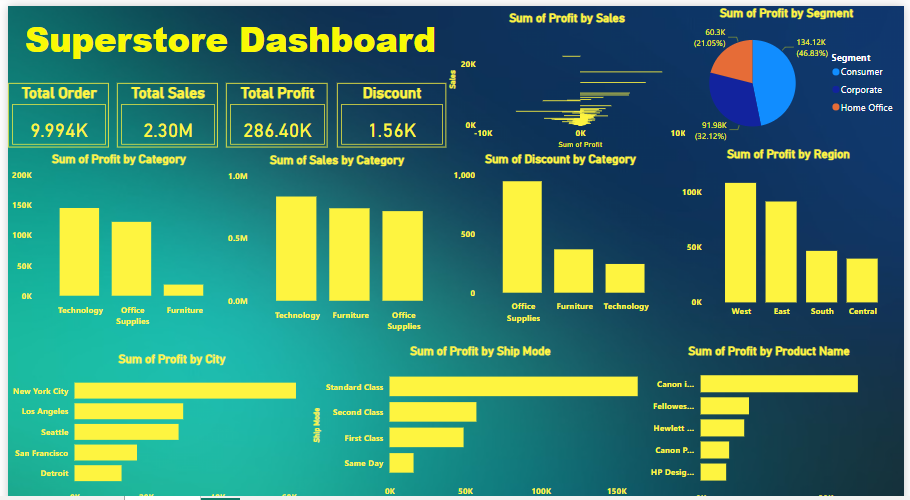

Layout of this report page (visuals, bound fields, positions):
{"tool":"powerbi","page":{"name":"Page 1","canvas":[1280,720],"ordinal":0},"visuals":[{"type":"cardVisual","title":"Total Order","fields":{"Data":["CountNonNull(Orders.Order ID)"]},"box":[0,109.4,144,92.2],"z":0},{"type":"cardVisual","title":"Total Profit","fields":{"Data":["Sum(Orders.Profit)"]},"box":[311,109.4,145.4,92.2],"z":1000},{"type":"cardVisual","title":"Discount","fields":{"Data":["Sum(Orders.Discount)"]},"box":[469.4,109.4,155.5,92.2],"z":2000},{"type":"cardVisual","title":"Total Sales","fields":{"Data":["Sum(Orders.Sales)"]},"box":[155.5,109.4,144,92.2],"z":3000},{"type":"columnChart","fields":{"Category":["Orders.Category"],"Y":["Sum(Orders.Profit)"]},"box":[0,208.8,316.8,256.3],"z":4000},{"type":"columnChart","fields":{"Category":["Orders.Category"],"Y":["Sum(Orders.Discount)"]},"box":[630.7,208.8,315.4,252],"z":5000},{"type":"clusteredBarChart","fields":{"Category":["Orders.City"],"Y":["Sum(Orders.Profit)"]},"box":[0,493.9,468,226.1],"z":6000},{"type":"clusteredBarChart","fields":{"Category":["Orders.Product Name"],"Y":["Sum(Orders.Profit)"]},"box":[901.4,482.4,371.5,237.6],"z":7000},{"type":"columnChart","fields":{"Category":["Orders.Category"],"Y":["Sum(Orders.Sales)"]},"box":[308.2,210.2,322.6,262.1],"z":8000},{"type":"pieChart","fields":{"Category":["Orders.Segment"],"Y":["Sum(Orders.Profit)"]},"box":[946.1,0,332.6,201.6],"z":9000},{"type":"columnChart","fields":{"Category":["Orders.Region"],"Y":["Sum(Orders.Profit)"]},"box":[957.6,201.6,315.4,252],"z":10000},{"type":"clusteredBarChart","fields":{"Y":["Sum(Orders.Profit)"],"Category":["Orders.Sales"]},"box":[625,7.2,348.5,201.6],"z":11000},{"type":"barChart","fields":{"Category":["Orders.Ship Mode"],"Y":["Sum(Orders.Profit)"]},"box":[430.6,482.4,489.6,237.6],"z":12000},{"type":"textbox","box":[10.1,7.2,614.9,93.6],"z":12001}]}

Visuals, with their boxes in screenshot pixels (x1, y1, x2, y2), scaled from the page's 1280x720 canvas onto the 910x500 screenshot:
"Total Order" cardVisual: (0, 76, 102, 140)
"Total Profit" cardVisual: (221, 76, 324, 140)
"Discount" cardVisual: (334, 76, 444, 140)
"Total Sales" cardVisual: (111, 76, 213, 140)
columnChart - Orders.Category x Sum(Orders.Profit): (0, 145, 225, 323)
columnChart - Orders.Category x Sum(Orders.Discount): (448, 145, 673, 320)
clusteredBarChart - Orders.City x Sum(Orders.Profit): (0, 343, 333, 499)
clusteredBarChart - Orders.Product Name x Sum(Orders.Profit): (641, 335, 905, 499)
columnChart - Orders.Category x Sum(Orders.Sales): (219, 146, 448, 328)
pieChart - Orders.Segment x Sum(Orders.Profit): (673, 0, 909, 140)
columnChart - Orders.Region x Sum(Orders.Profit): (681, 140, 905, 315)
clusteredBarChart - Sum(Orders.Profit) x Orders.Sales: (444, 5, 692, 145)
barChart - Orders.Ship Mode x Sum(Orders.Profit): (306, 335, 654, 499)
textbox: (7, 5, 444, 70)
